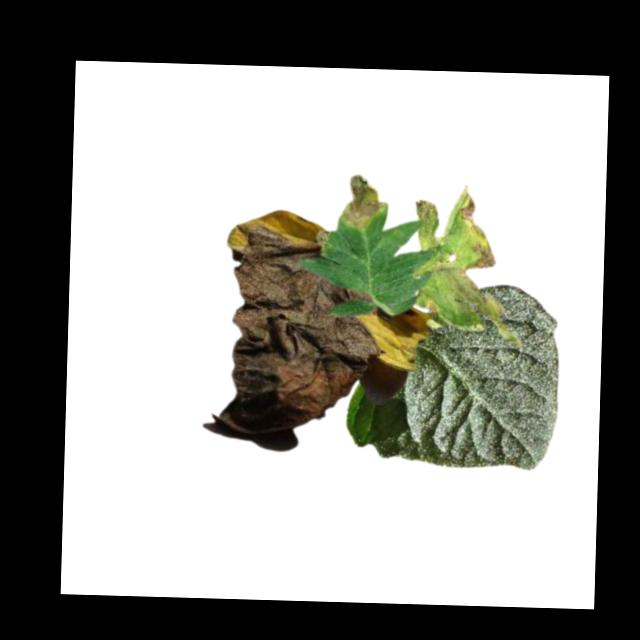Late_blight: (222, 207, 386, 418), (411, 188, 503, 323), (357, 298, 431, 369), (340, 175, 388, 233)
healthy: (344, 277, 563, 471)
